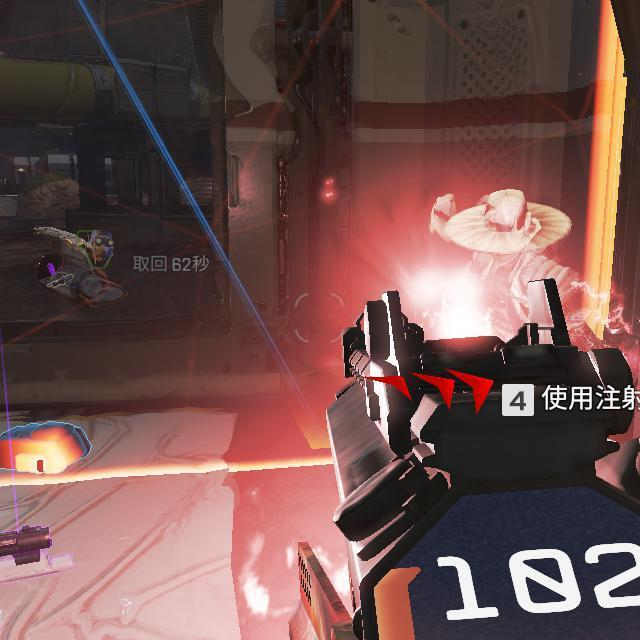avatar: (441, 185, 582, 336)
